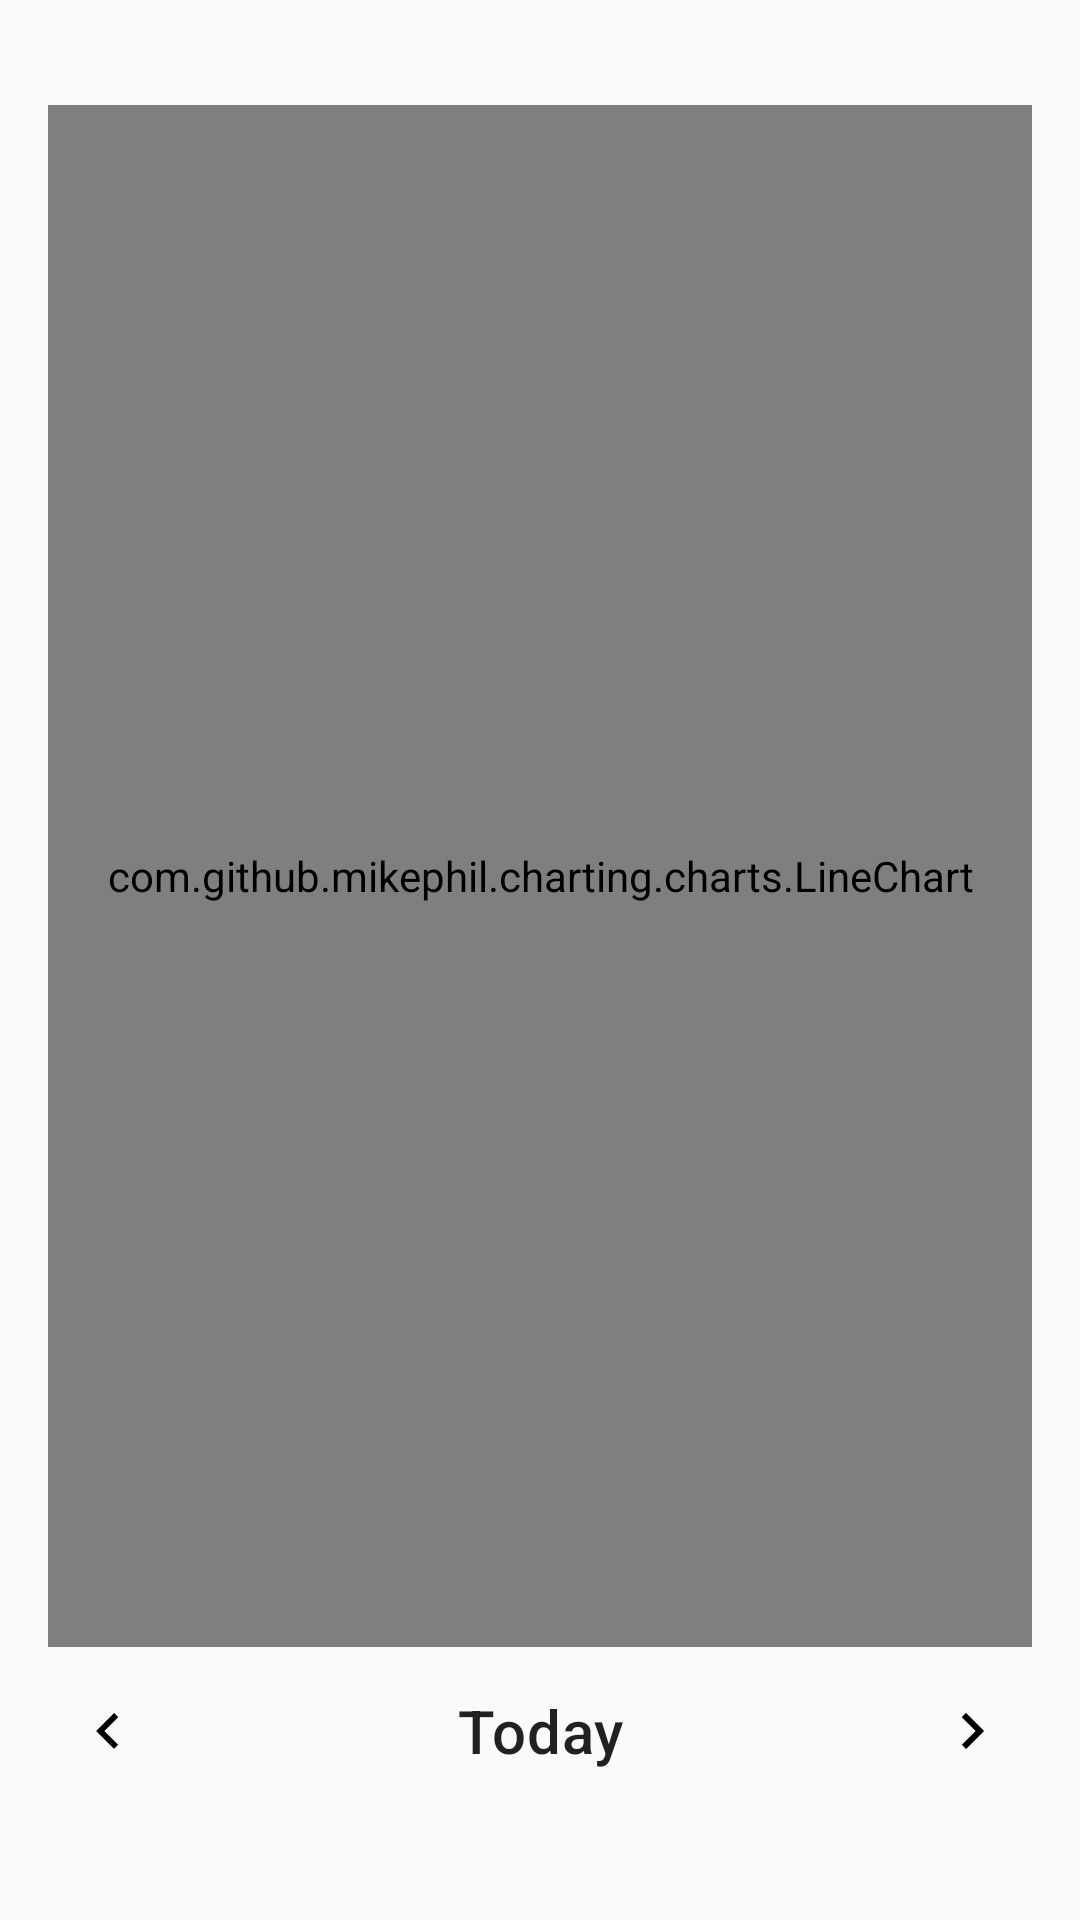

Icon bounding boxes for this 1080*1920 phone screenshot, format (x1, y1, x2, y2):
chevron left: (96, 1713, 118, 1749)
chevron right: (962, 1713, 984, 1749)
